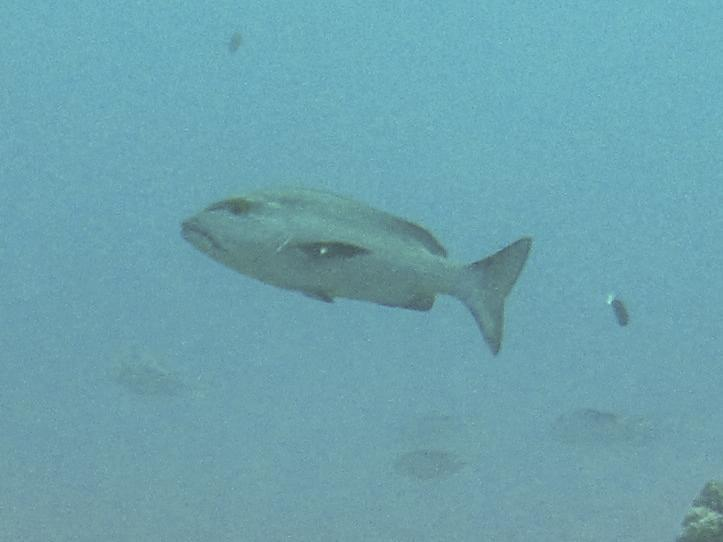Fish: (167, 174, 537, 362)
